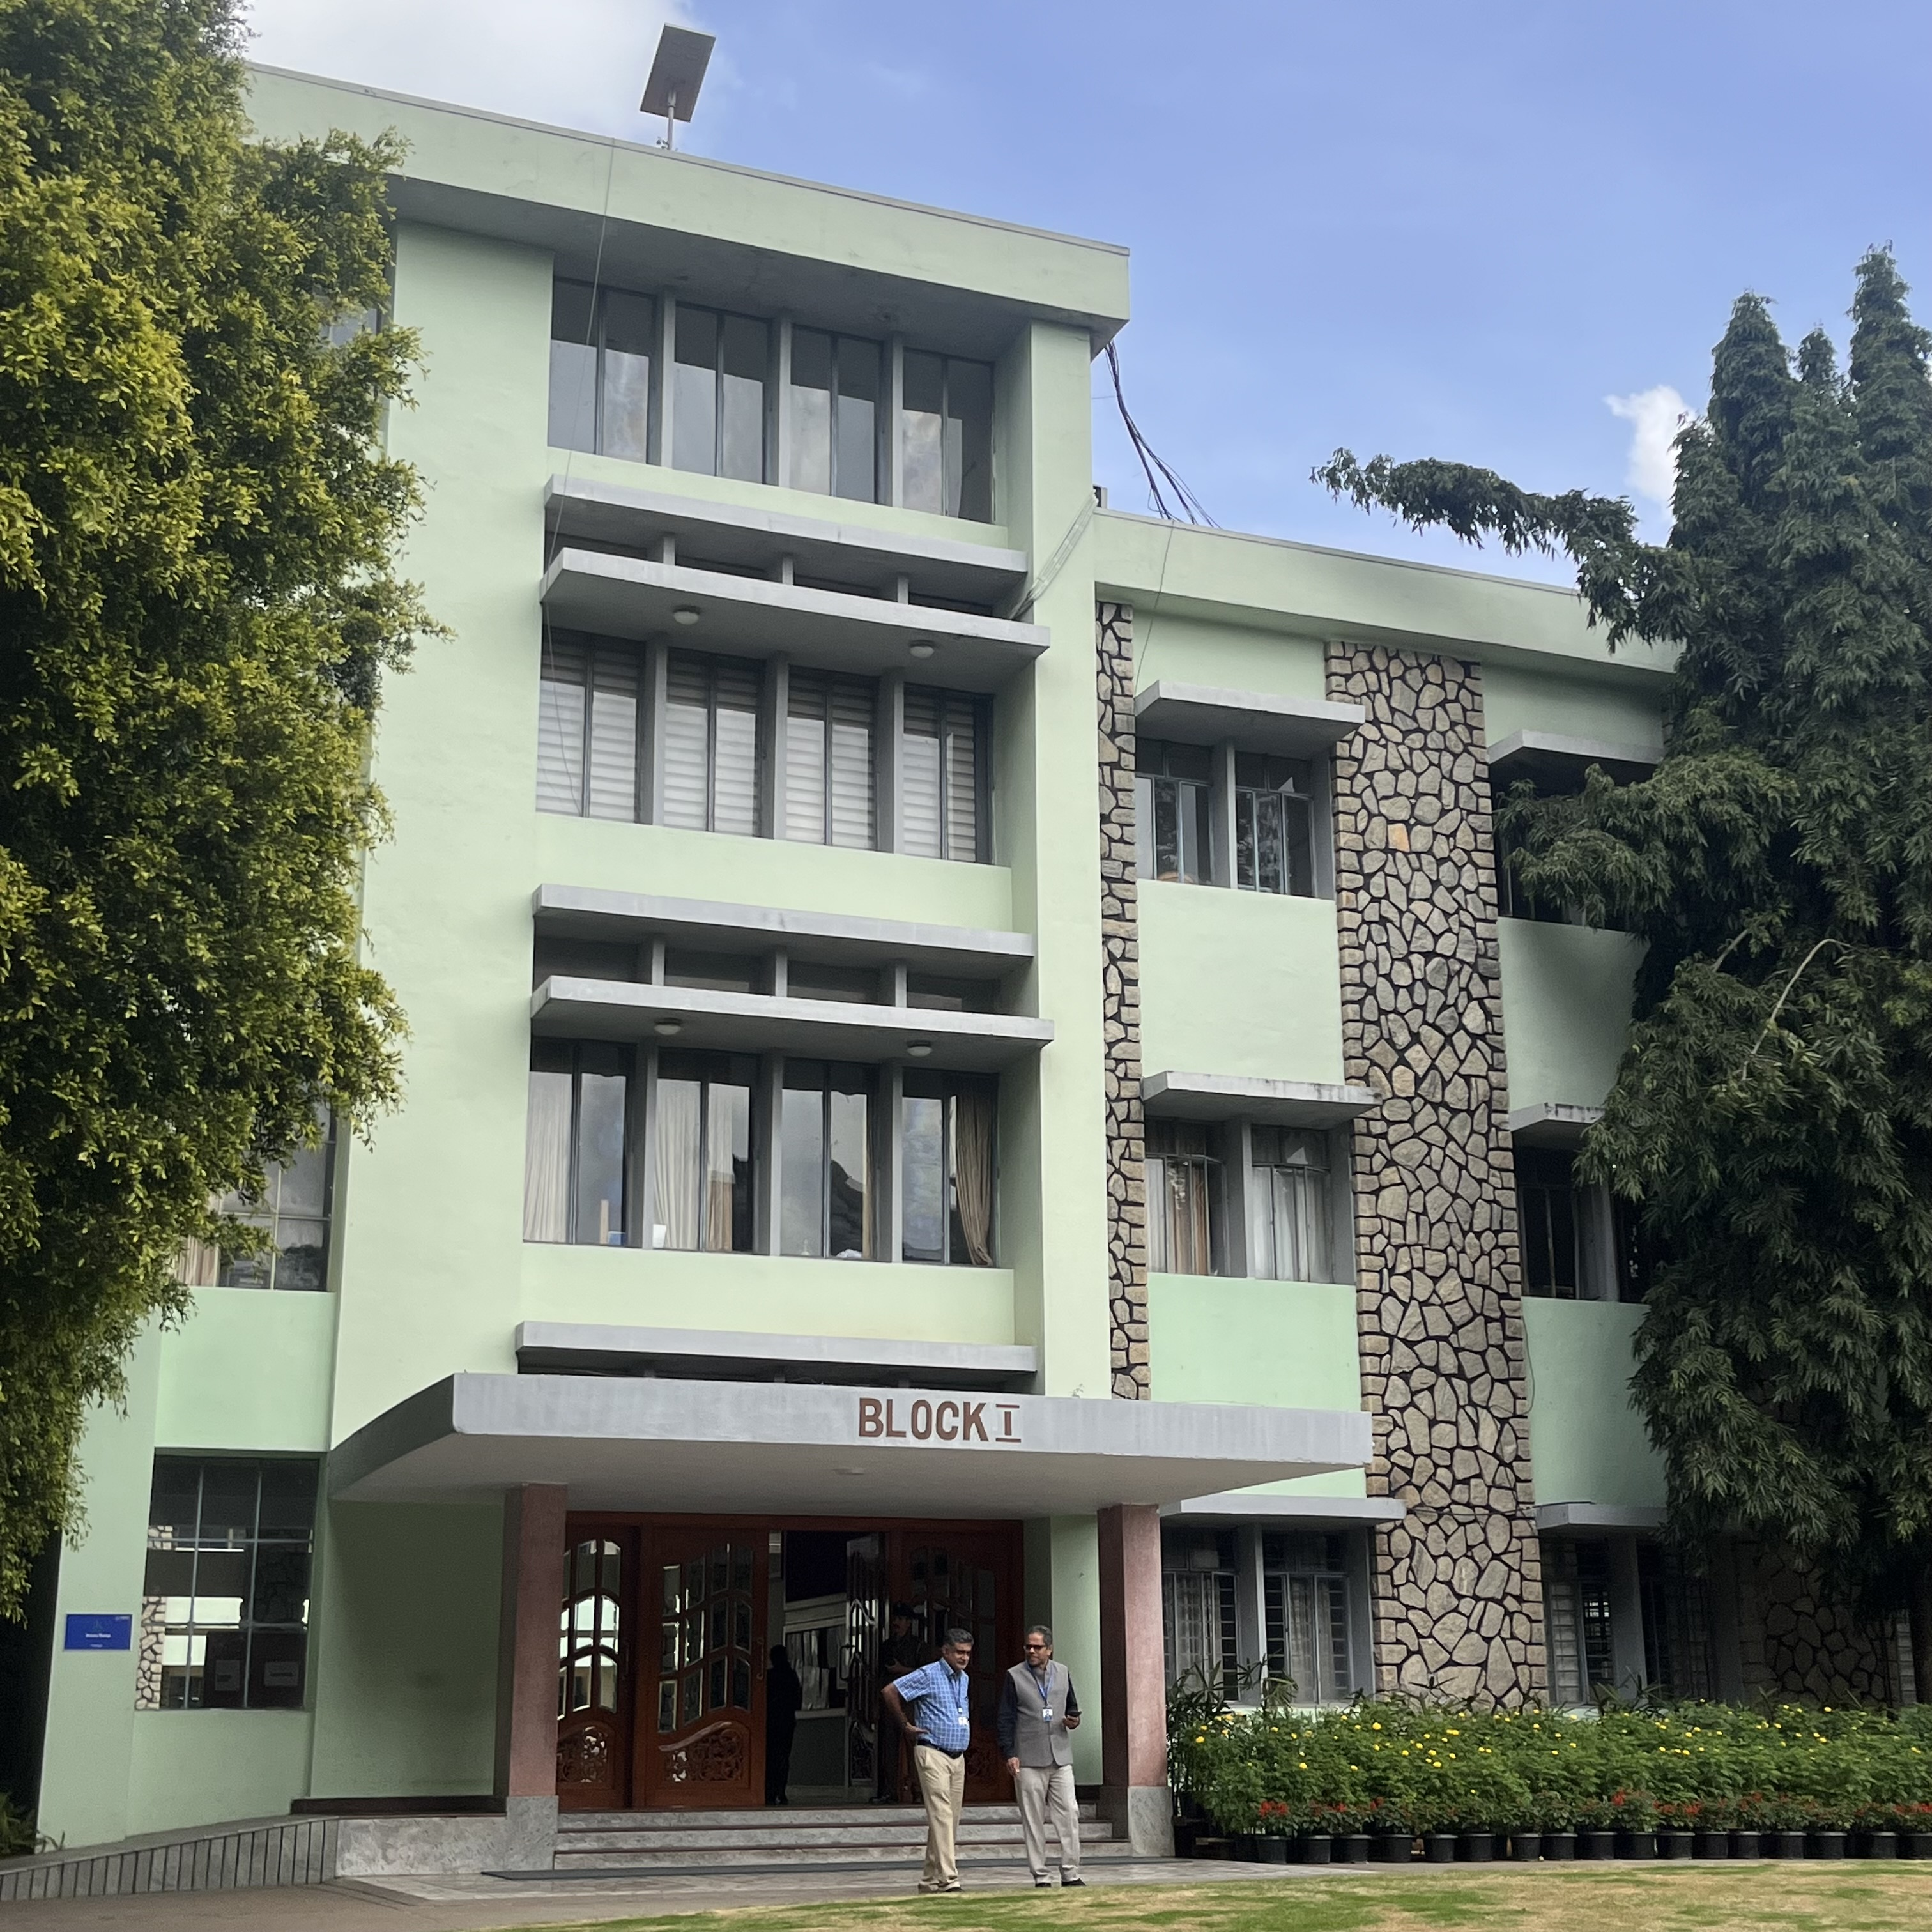Block 1: (377, 14, 1644, 1677)
